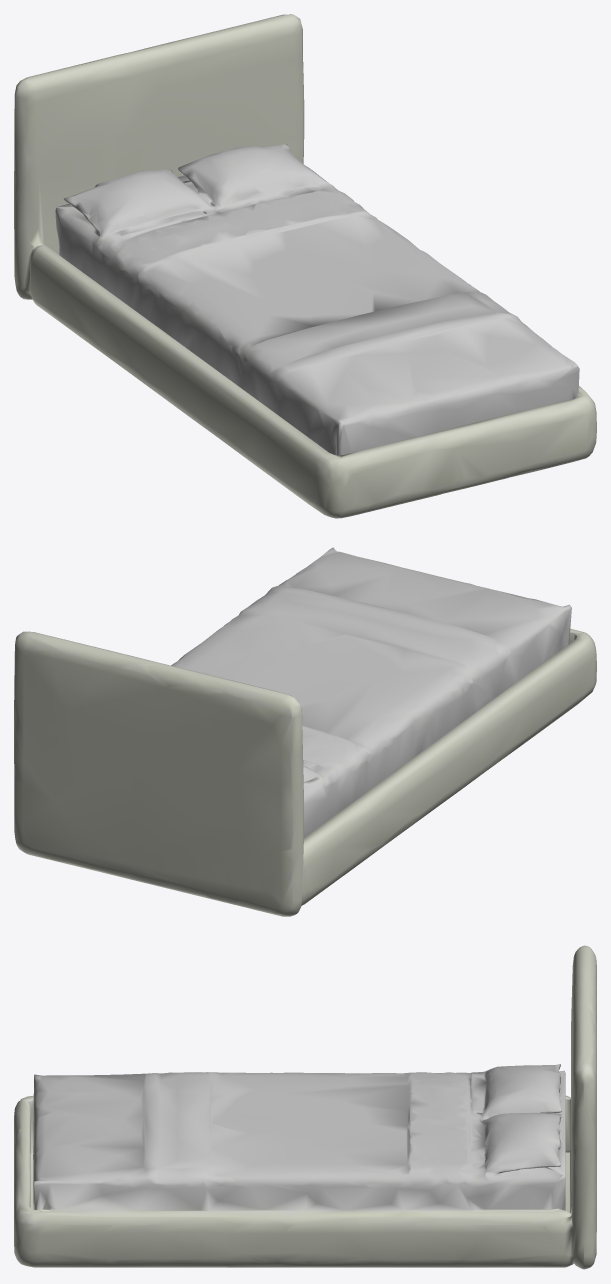
Rendered from ZjH-SCe8pH_2TIOHyA5Wc.glb.
The picture shows the model from 3 angles, top to bottom: view 1: azimuth 30°, elevation 25°; view 2: azimuth 150°, elevation 25°; view 3: azimuth 270°, elevation 25°; orthographic projection. The views are drawn at different scales.
Visible parts, largest first — view 1: geometry_0; view 2: geometry_0; view 3: geometry_0.
Part boxes in pixels (left/top/right/bottom): geometry_0: left=14, top=14, right=596, bottom=518; geometry_0: left=14, top=547, right=596, bottom=916; geometry_0: left=14, top=945, right=596, bottom=1269.
Bounding box in the file's own units: 0.5315 × 0.3897 × 1.
1 material, 1 textured.
